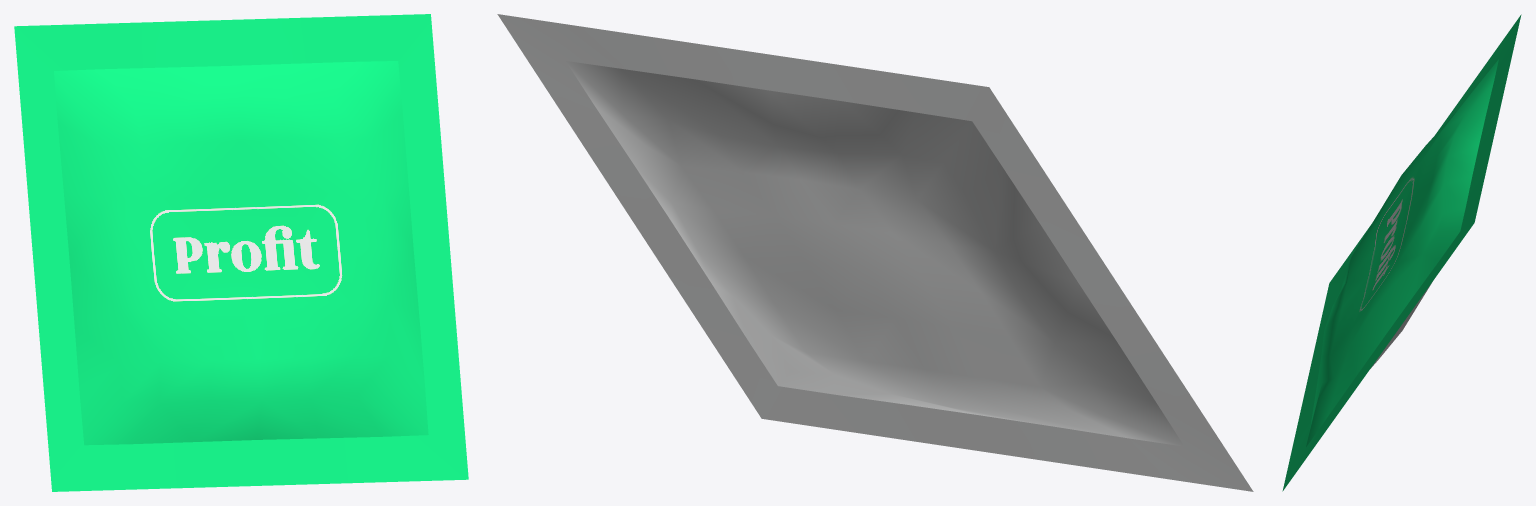
Rendered from lime.glb.
3 views of the same model, side by side, from view 1: azimuth 30°, elevation 25°; view 2: azimuth 150°, elevation 25°; view 3: azimuth 270°, elevation 25° (orthographic). The views are drawn at different scales.
Visible parts, largest first — view 1: Condom Low Poly; view 2: Condom Low Poly; view 3: Condom Low Poly.
Part boxes in pixels (x1=…): Condom Low Poly: x1=14, y1=14, x2=468, y2=491; Condom Low Poly: x1=497, y1=14, x2=1253, y2=491; Condom Low Poly: x1=1282, y1=14, x2=1521, y2=491.
Size of the model in its own units: 2.36 by 2.05 by 1.26.
1 material, 1 textured.
